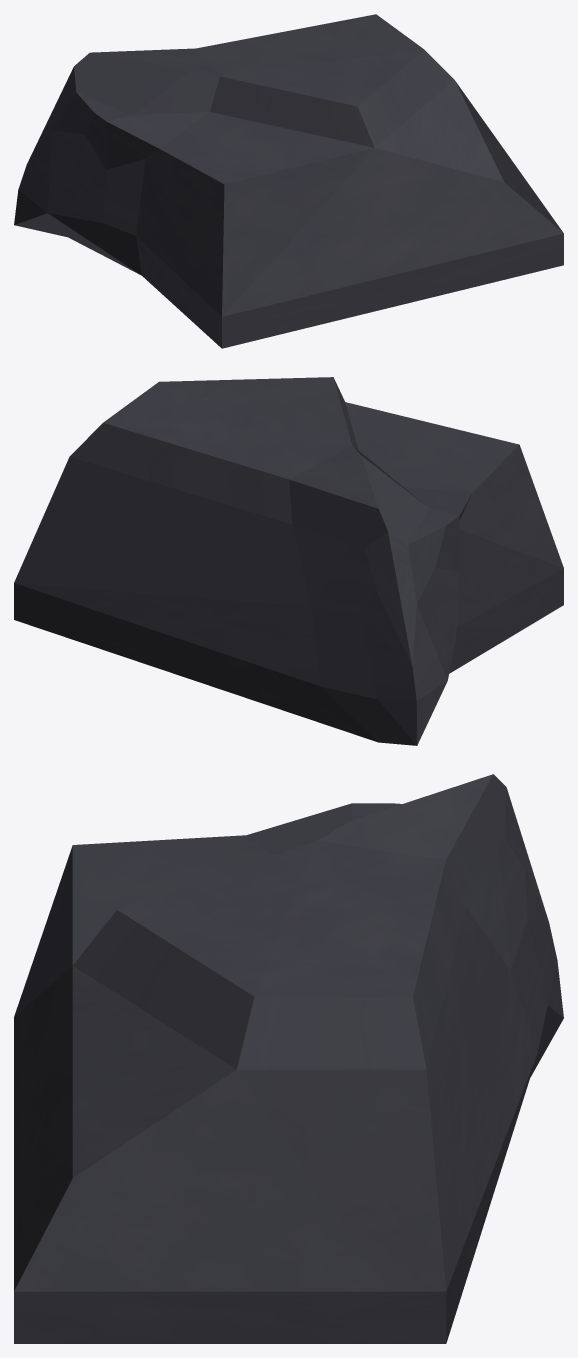
The model's file is rock 5.fbx.
3 renders of one model, top to bottom at view 1: azimuth 30°, elevation 25°; view 2: azimuth 150°, elevation 25°; view 3: azimuth 270°, elevation 25°, orthographic. The views are drawn at different scales.
Visible parts, largest first — view 1: Cube.004; view 2: Cube.004; view 3: Cube.004.
Boxes of the visible parts, left/top/right/bottom form: Cube.004: left=14, top=14, right=563, bottom=348; Cube.004: left=14, top=377, right=563, bottom=745; Cube.004: left=14, top=774, right=563, bottom=1343.
Size of the model in its own units: 411 by 195 by 311.
